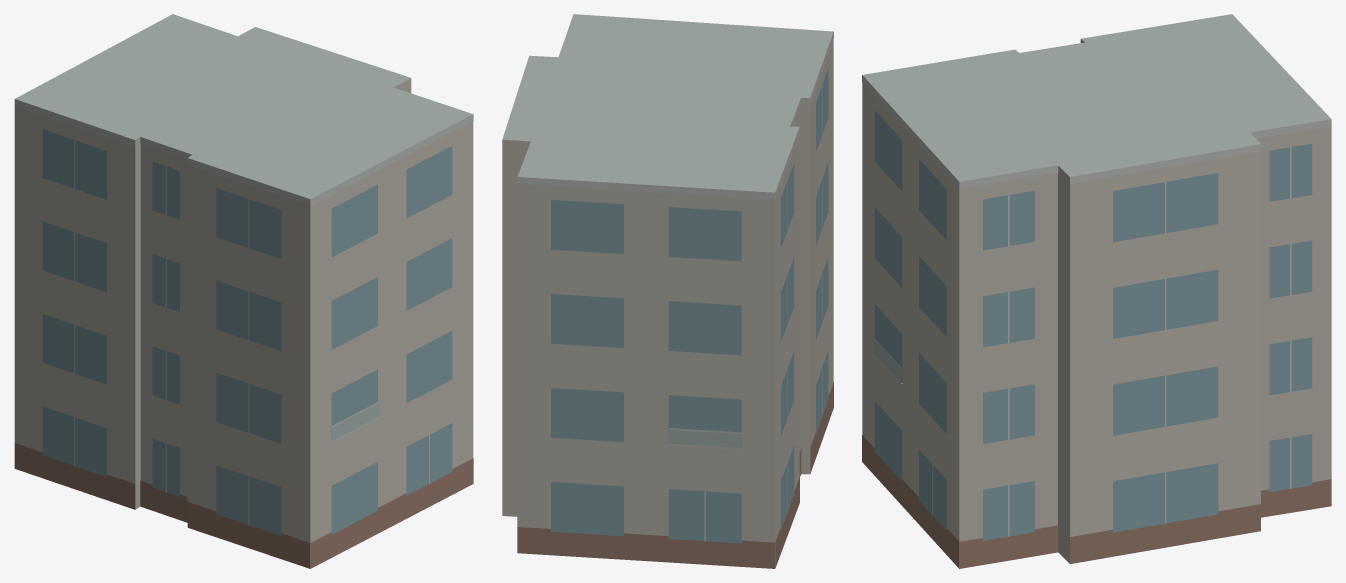
The model's file is survey-upis-32751099.glb.
The picture shows the model from 3 angles, left to right: view 1: azimuth 30°, elevation 25°; view 2: azimuth 150°, elevation 25°; view 3: azimuth 270°, elevation 25°; orthographic projection. The views are drawn at different scales.
Visible parts, largest first — view 1: survey-upis-32751099.tmp; view 2: survey-upis-32751099.tmp; view 3: survey-upis-32751099.tmp.
Part boxes in pixels (left/top/right/bottom): survey-upis-32751099.tmp: left=14, top=14, right=473, bottom=568; survey-upis-32751099.tmp: left=502, top=14, right=833, bottom=568; survey-upis-32751099.tmp: left=862, top=14, right=1331, bottom=568.
Size of the model in its own units: 12.01 by 12.9 by 14.19.
